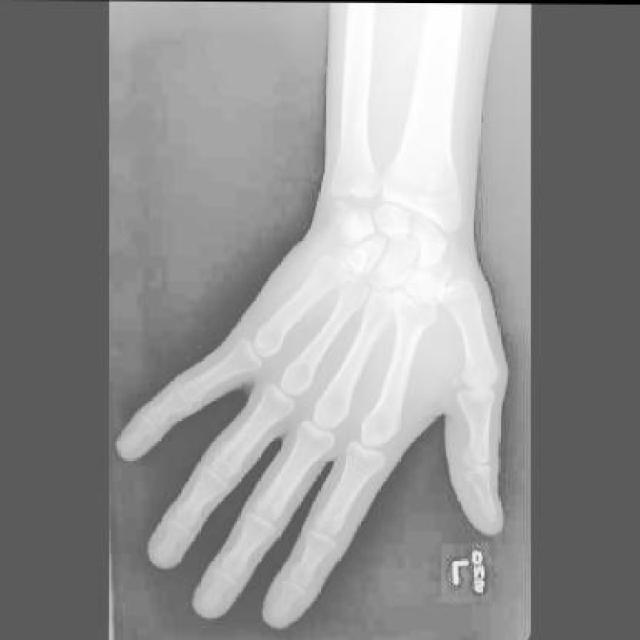Fracture: (409, 237, 446, 261)
